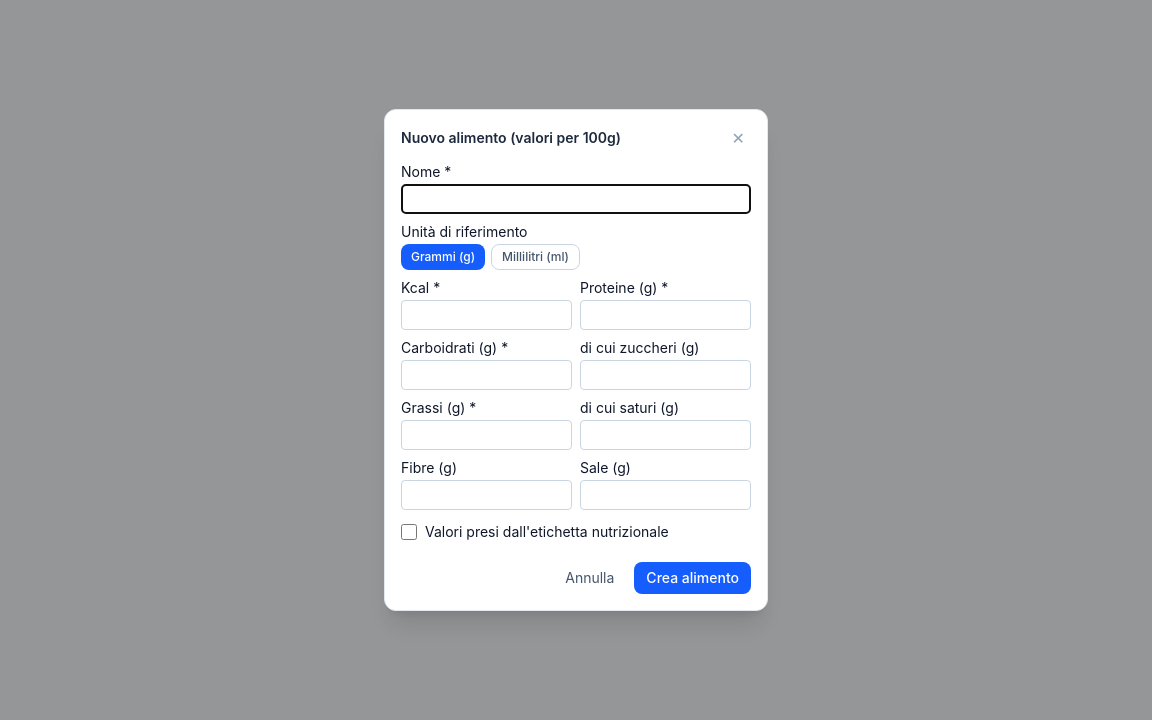
Test: AlimentoFormModal - nuovo alimento › AlimentoFormModal_anteprima_mostraAvvisoSenzaChiamareCreaAlimentoNeChiudere
The image size is (1152, 720).
Type "Pasta" into the field labelled "Nome *".
click(576, 199); type("Pasta")  # box [401, 184, 751, 214]
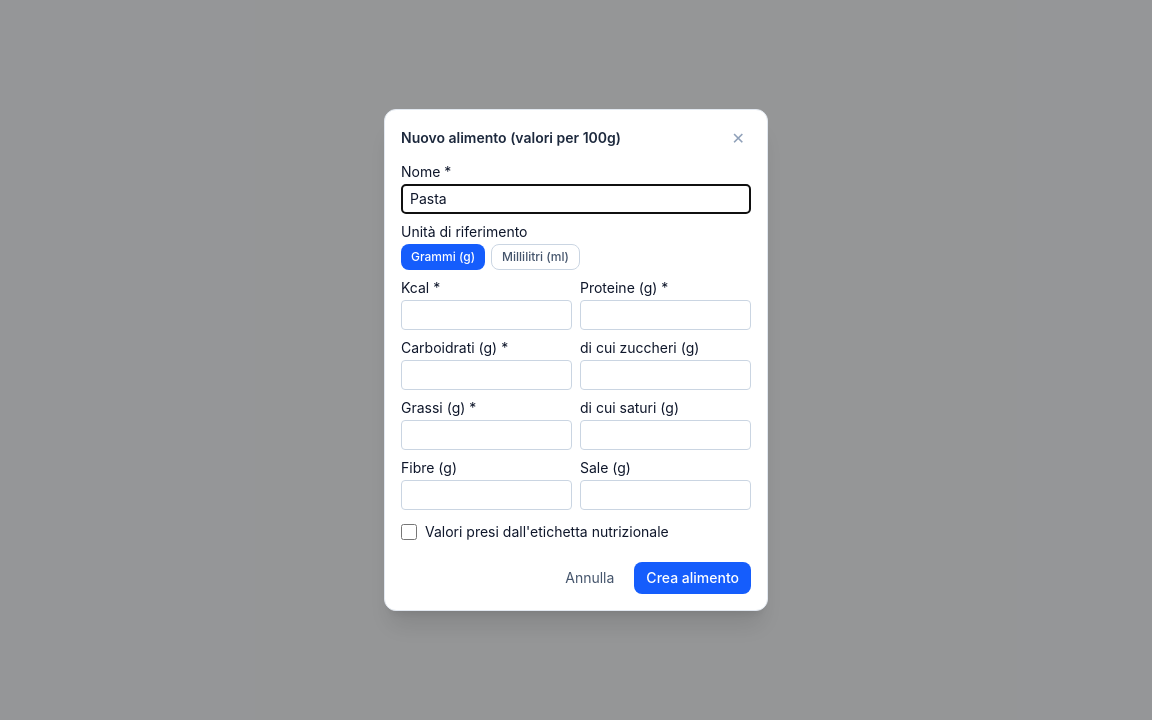
Type "350" into the number field labelled "Kcal *".
click(486, 315); type("350")  # box [401, 300, 572, 330]
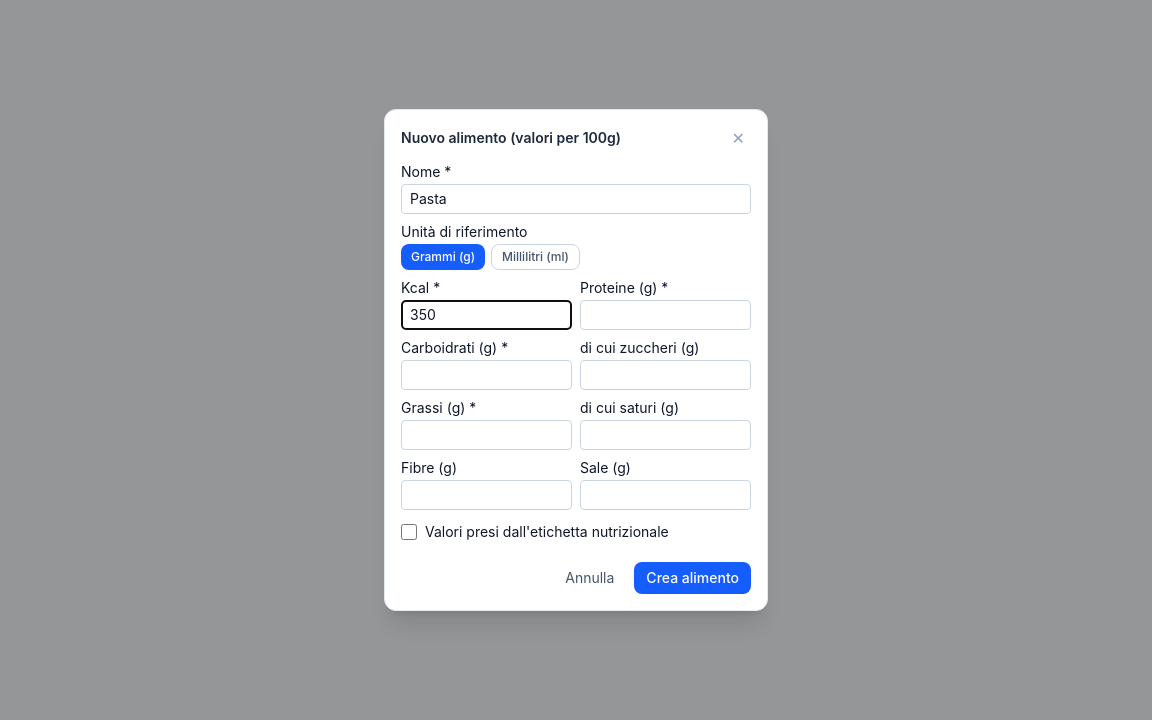
Type "12" into the number field labelled "Proteine (g) *".
click(666, 315); type("12")  # box [580, 300, 751, 330]
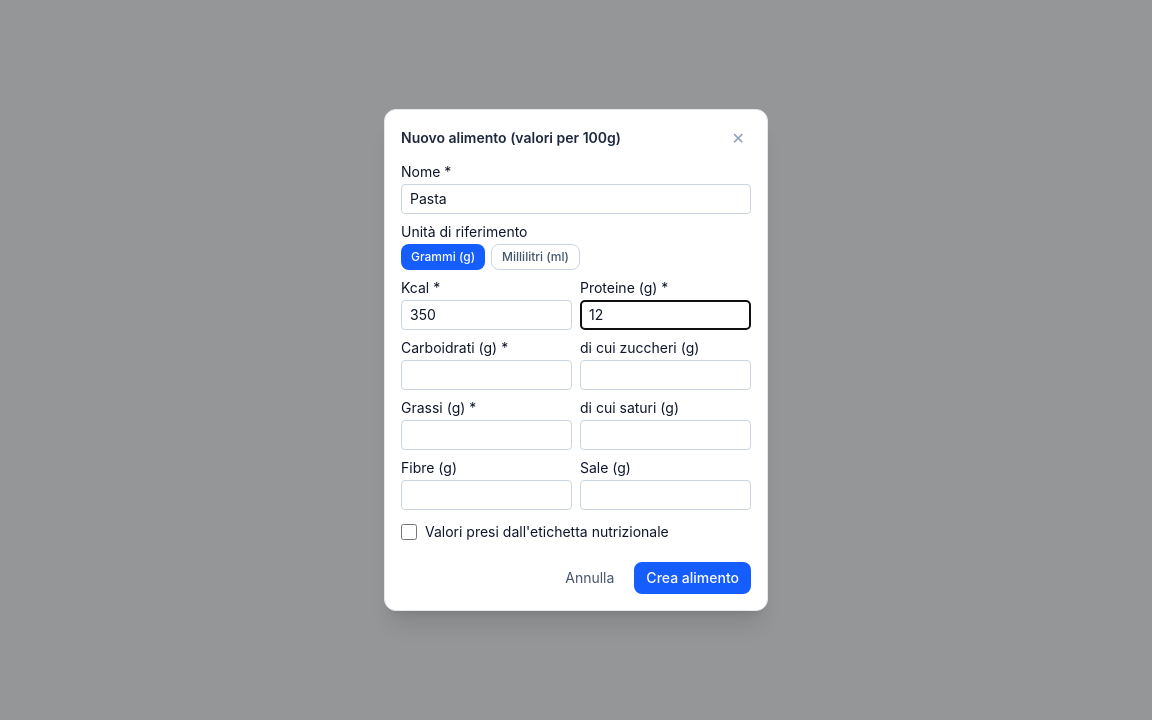
Type "70" into the number field labelled "Carboidrati (g) *".
click(486, 375); type("70")  # box [401, 360, 572, 390]
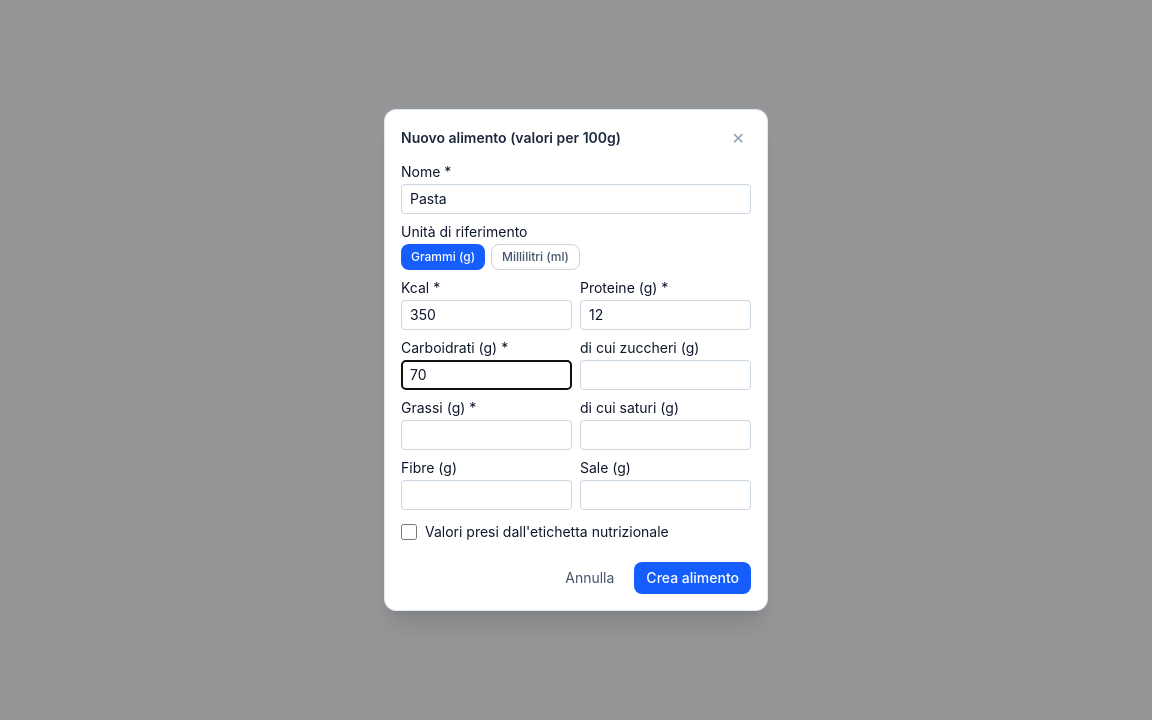
Type "2" into the number field labelled "Grassi (g) *".
click(486, 435); type("2")  # box [401, 420, 572, 450]
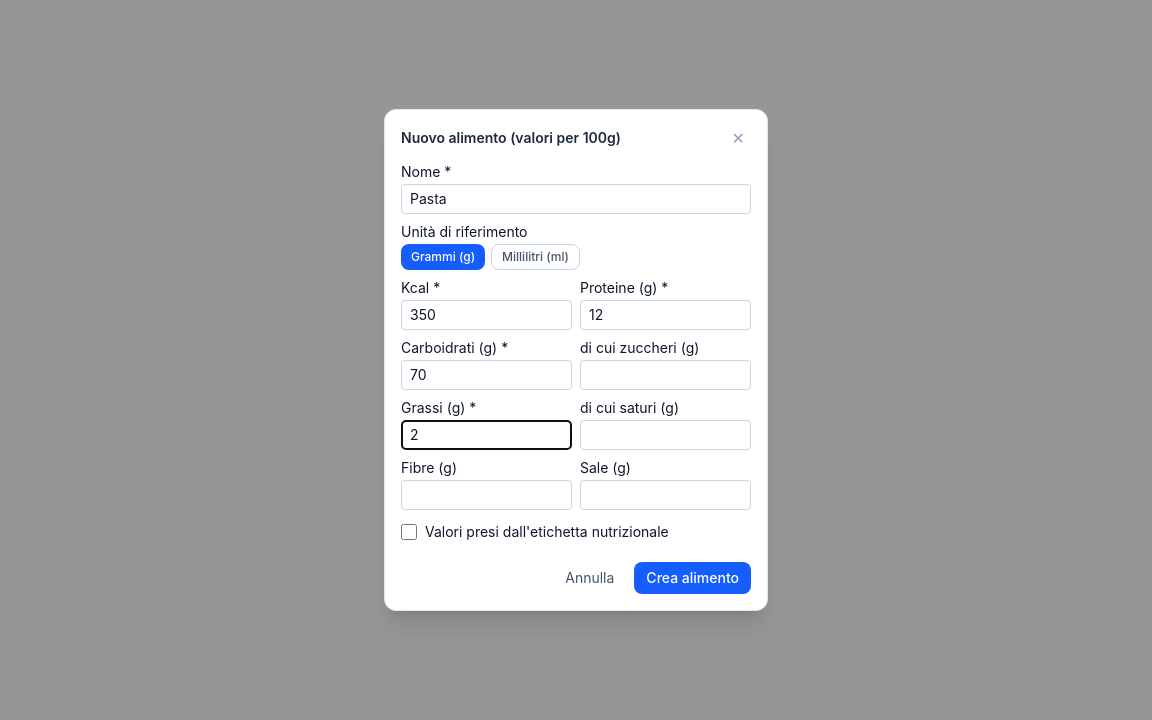
Click the button "Crea alimento".
click(693, 578)  # box [634, 562, 751, 594]
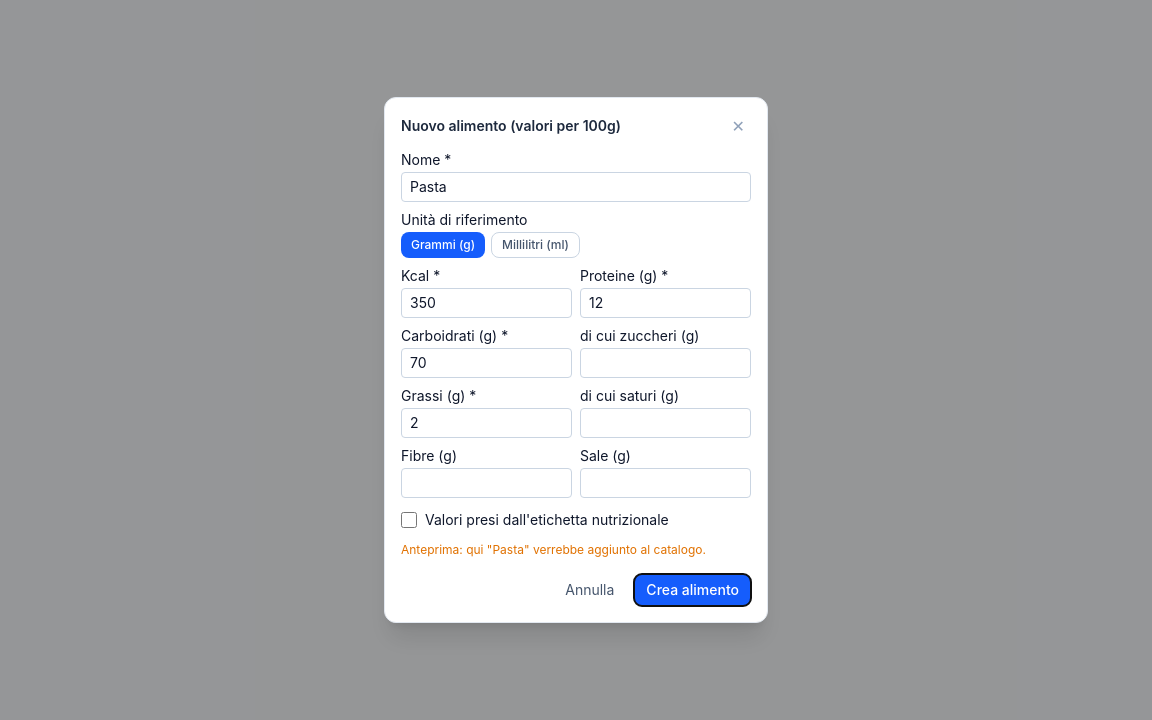
Check: the text "Anteprima: qui \"Pasta\" verrebbe aggiunto al catalogo." is shown, box [401, 542, 751, 558]
